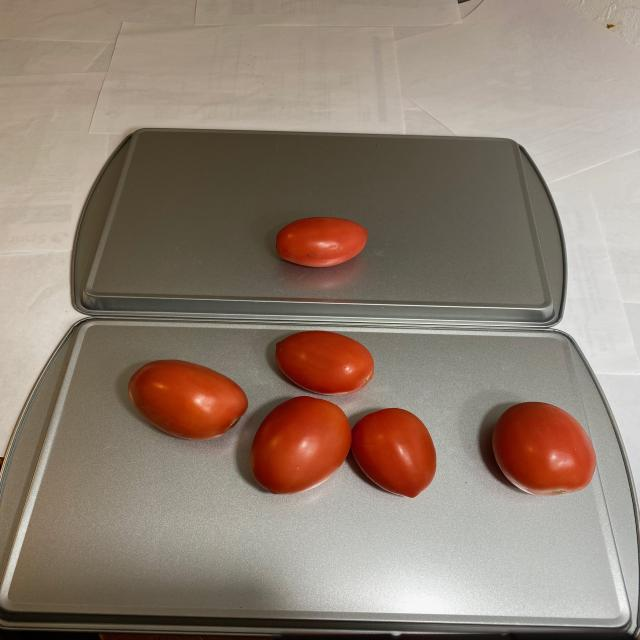tomato: (116, 331, 602, 494), (275, 215, 374, 269)
